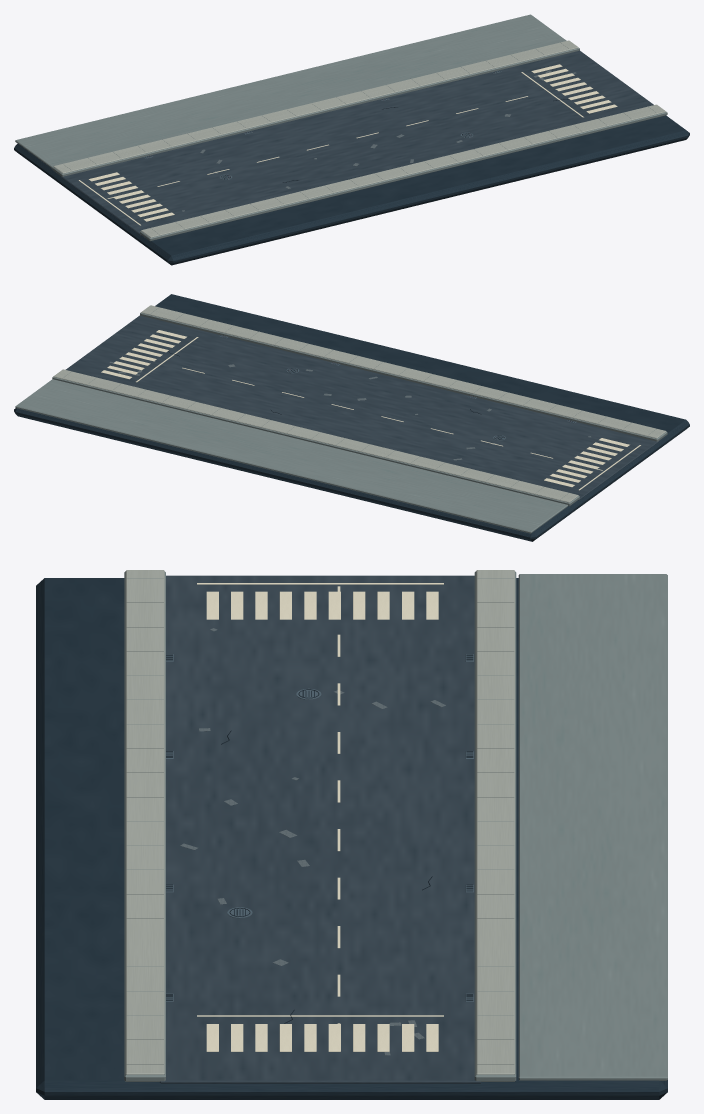
The model's file is street-block.glb.
3 views of the same model, one above another, from view 1: azimuth 30°, elevation 25°; view 2: azimuth 150°, elevation 25°; view 3: azimuth 270°, elevation 25° (orthographic). The views are drawn at different scales.
Parts seen in each view (by area): view 1: street-block; view 2: street-block; view 3: street-block.
Part boxes in pixels (x1=…): street-block: x1=14, y1=14, x2=689, y2=265; street-block: x1=14, y1=294, x2=689, y2=541; street-block: x1=36, y1=570, x2=667, y2=1099.
Bounding box in the file's own units: 42 × 1.06 × 22.
Materials: 2 (2 with a texture image).
